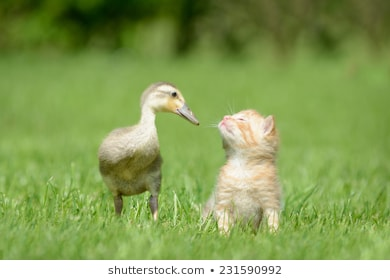duck: (77, 61, 202, 243)
